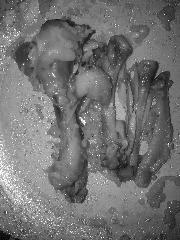organic: (37, 26, 167, 197)
